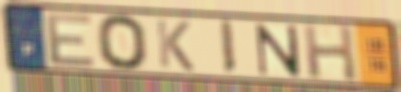E: (44, 12, 99, 68)
H: (301, 22, 361, 85)
I: (218, 18, 238, 77)
K: (153, 17, 196, 73)
N: (253, 22, 302, 78)
O: (94, 13, 151, 72)
